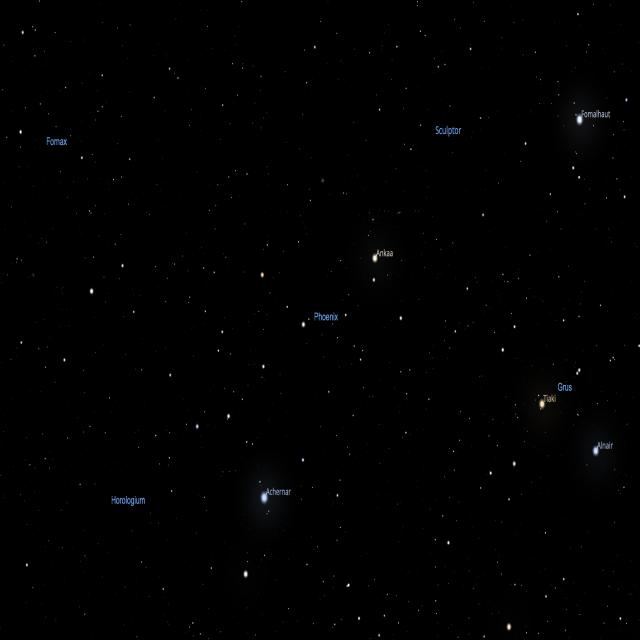Phoenix: (220, 247, 406, 469)
